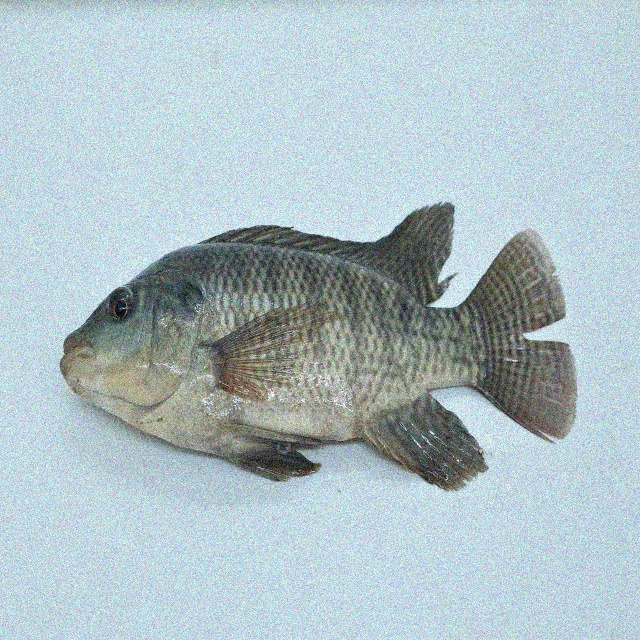Healthy Fish: (58, 198, 580, 490)
